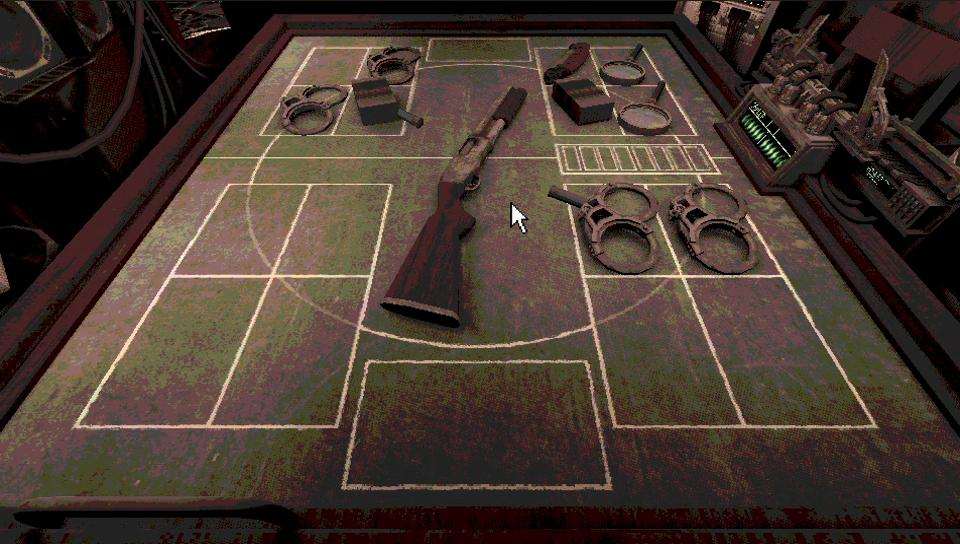ally: (0, 155, 959, 521)
cigar: (352, 77, 414, 134), (545, 78, 613, 125)
doubledamage: (542, 41, 592, 85)
emptyspace: (76, 275, 270, 429), (686, 277, 877, 426), (583, 278, 748, 426), (208, 277, 370, 426), (172, 185, 309, 278), (272, 185, 391, 277), (287, 49, 368, 86)
enemyspace: (202, 34, 758, 159)
gun: (380, 89, 527, 327)
handcuff: (549, 183, 659, 274), (667, 182, 764, 273), (282, 85, 350, 135), (367, 46, 421, 84)
lens: (613, 81, 695, 134), (590, 42, 664, 85)
